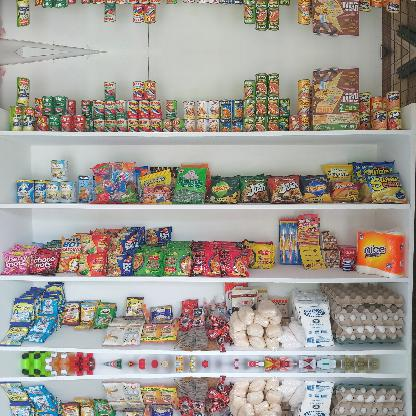Koko-Krunch: (312, 64, 358, 130), (311, 0, 359, 40)
